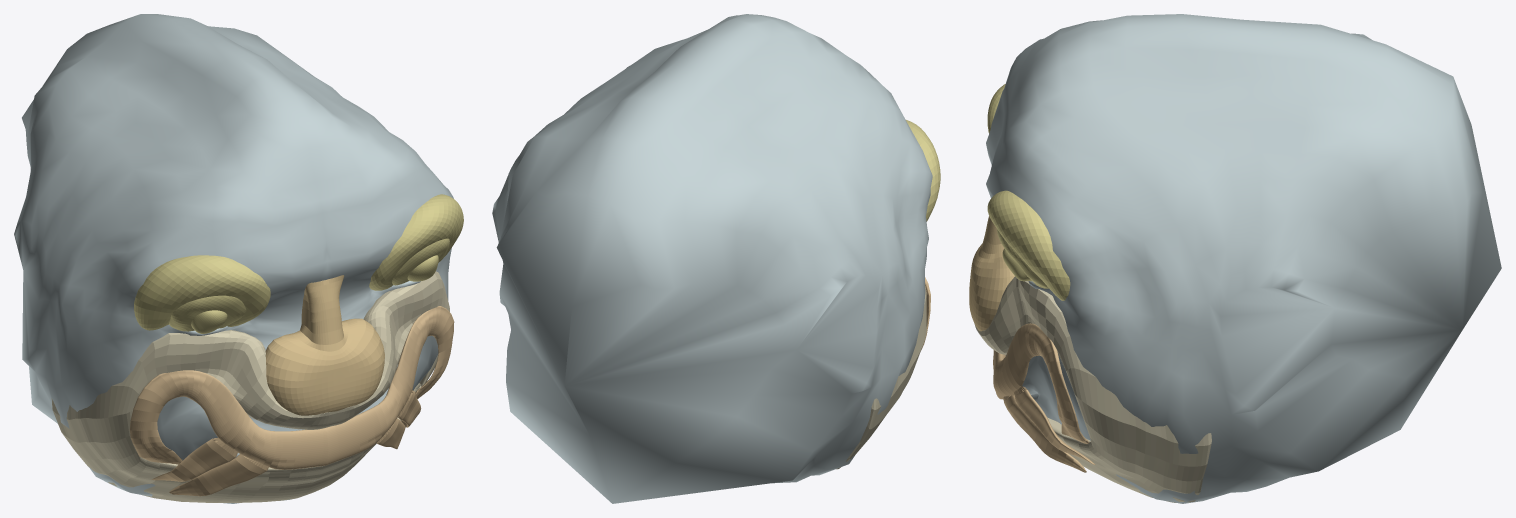
Rendered from cabezaclava.fbx.
3 renders of one model, left to right at view 1: azimuth 30°, elevation 25°; view 2: azimuth 150°, elevation 25°; view 3: azimuth 270°, elevation 25°, orthographic. The views are drawn at different scales.
Visible parts, largest first — view 1: CabezaClava; view 2: CabezaClava; view 3: CabezaClava.
Boxes of the visible parts, bbox=[...] form: CabezaClava: bbox=[14, 14, 463, 503]; CabezaClava: bbox=[492, 14, 940, 503]; CabezaClava: bbox=[969, 14, 1501, 503].
Size of the model in its own units: 14.84 by 15.79 by 17.69.
